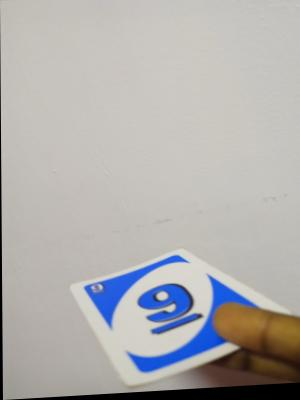blue: (102, 273, 220, 343)
